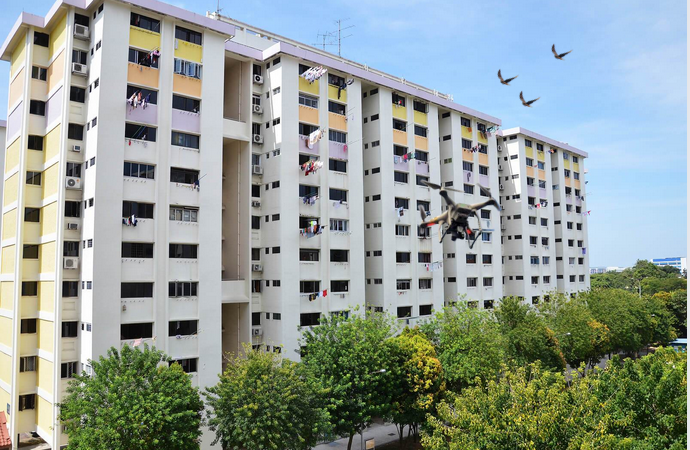drone_other: (413, 178, 506, 251)
